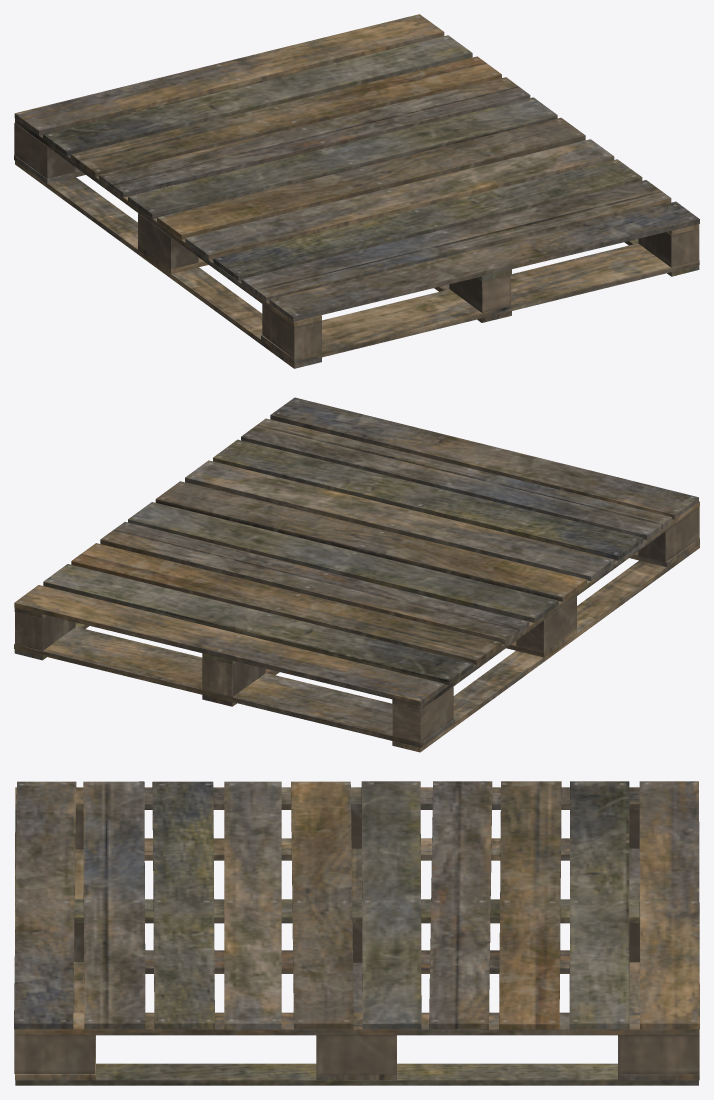
3 views of the same model, one above another, from view 1: azimuth 30°, elevation 25°; view 2: azimuth 150°, elevation 25°; view 3: azimuth 270°, elevation 25° (orthographic). The views are drawn at different scales.
Visible parts, largest first — view 1: Wooden_Pallet_01; view 2: Wooden_Pallet_01; view 3: Wooden_Pallet_01.
Part boxes in pixels (box(x1,y1,x2,y2)): Wooden_Pallet_01: box(14, 14, 699, 368); Wooden_Pallet_01: box(14, 397, 699, 752); Wooden_Pallet_01: box(14, 781, 699, 1085).
Size of the model in its own units: 0.9895 by 0.1194 by 1.18.
Materials: 1 (1 with a texture image).
